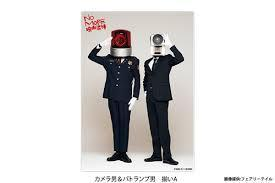no more kid: (149, 31, 171, 57)
